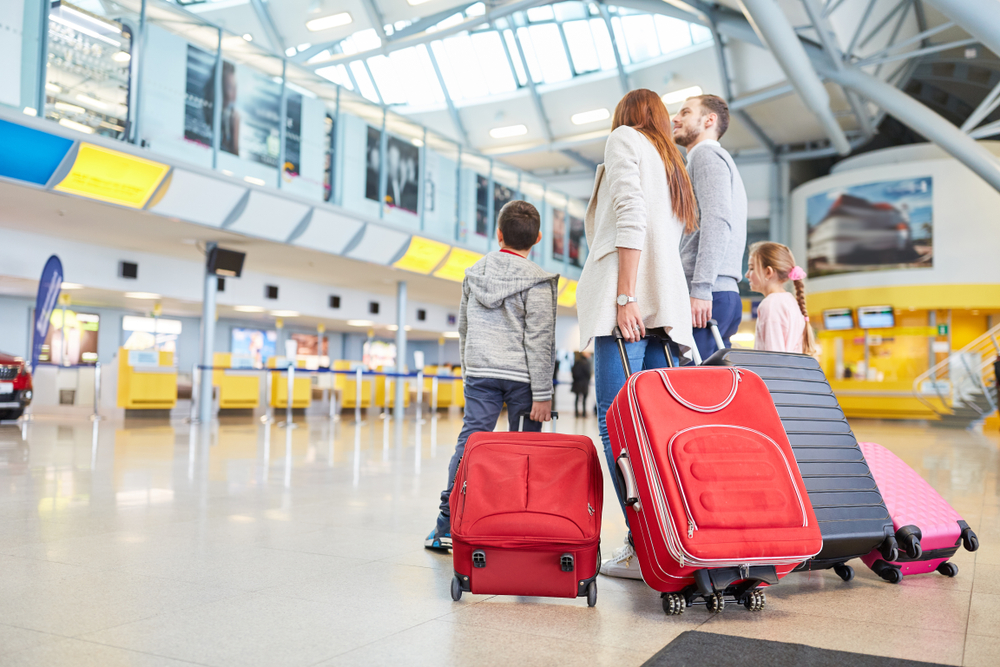luggage: (603, 361, 830, 624), (694, 340, 900, 587), (442, 427, 610, 612), (833, 436, 983, 594)
people: (569, 82, 706, 595), (426, 188, 563, 561), (663, 87, 746, 367), (733, 231, 826, 373)
